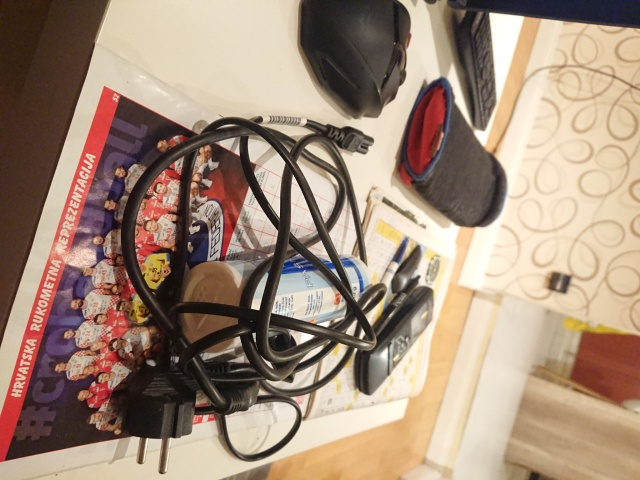Solana Pag Fine Sea Salt 250g: (175, 251, 374, 354)
